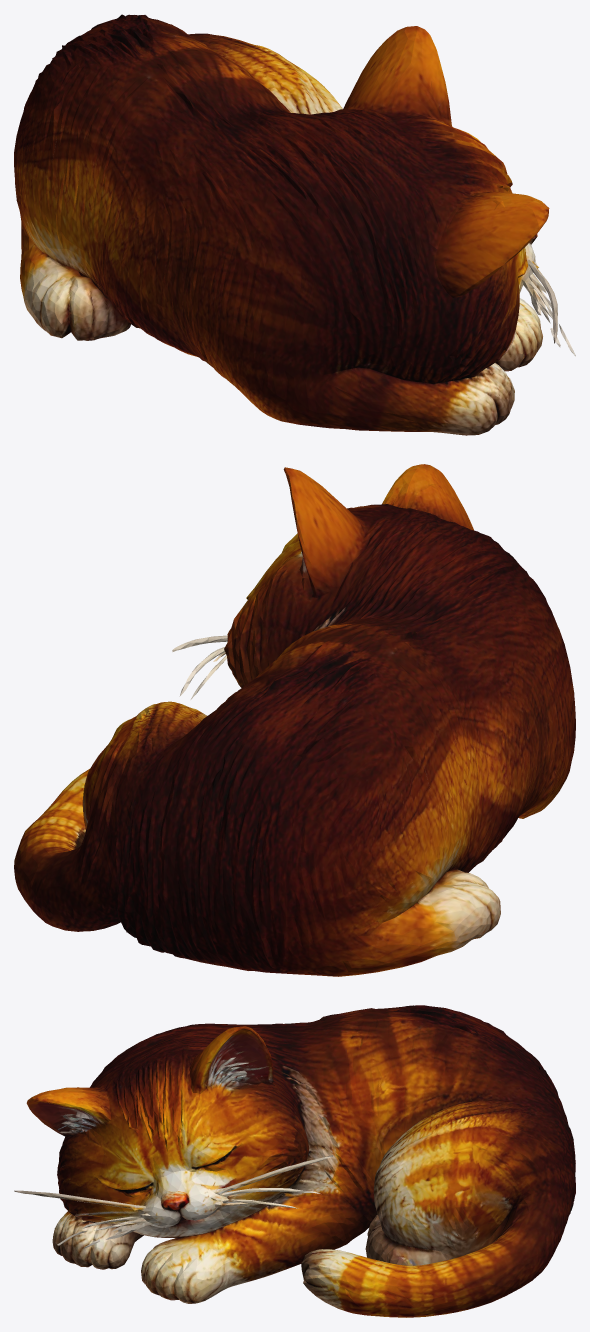
Rendered from cat.glb.
3 renders of one model, top to bottom at view 1: azimuth 30°, elevation 25°; view 2: azimuth 150°, elevation 25°; view 3: azimuth 270°, elevation 25°, orthographic. The views are drawn at different scales.
Parts seen in each view (by area): view 1: tripo_node_89bfb293-a3c6-4f18-9066-12791be52155; view 2: tripo_node_89bfb293-a3c6-4f18-9066-12791be52155; view 3: tripo_node_89bfb293-a3c6-4f18-9066-12791be52155.
Part boxes in pixels (<box>): tripo_node_89bfb293-a3c6-4f18-9066-12791be52155: <box>14,14,575,435</box>; tripo_node_89bfb293-a3c6-4f18-9066-12791be52155: <box>14,464,575,976</box>; tripo_node_89bfb293-a3c6-4f18-9066-12791be52155: <box>14,1005,575,1317</box>.
Size of the model in its own units: 0.6656 by 0.4937 by 0.998.
1 material, 1 textured.
